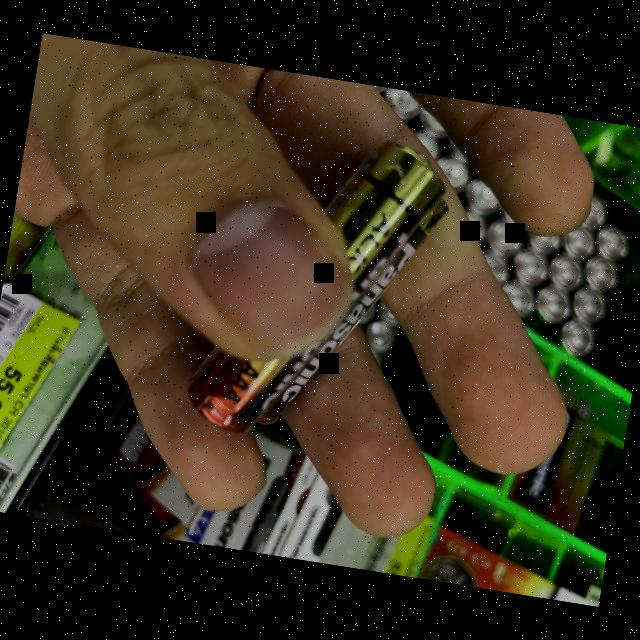battery: (181, 140, 452, 436), (251, 198, 448, 431)
